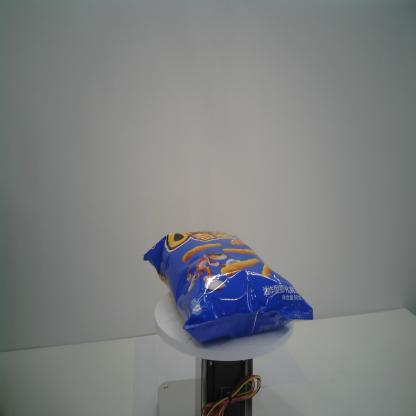Puffed Food: (141, 230, 314, 344)
